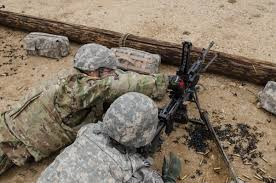gun: (144, 40, 215, 155)
